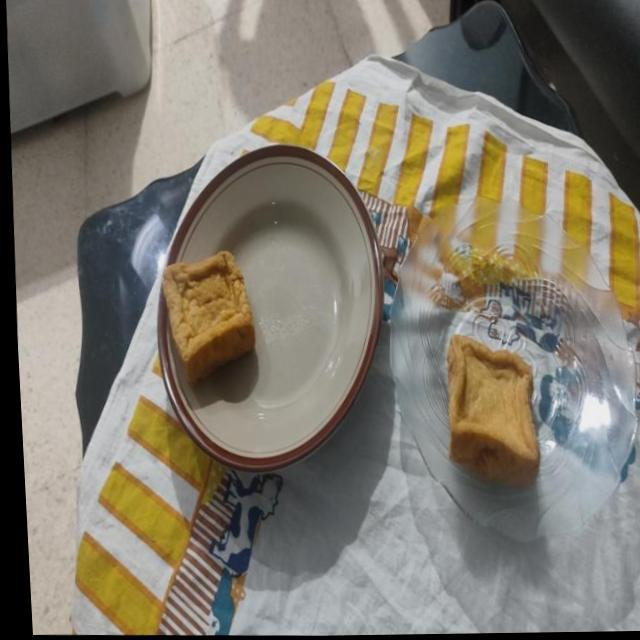tahu_goreng: (446, 334, 540, 486), (162, 251, 255, 383)
